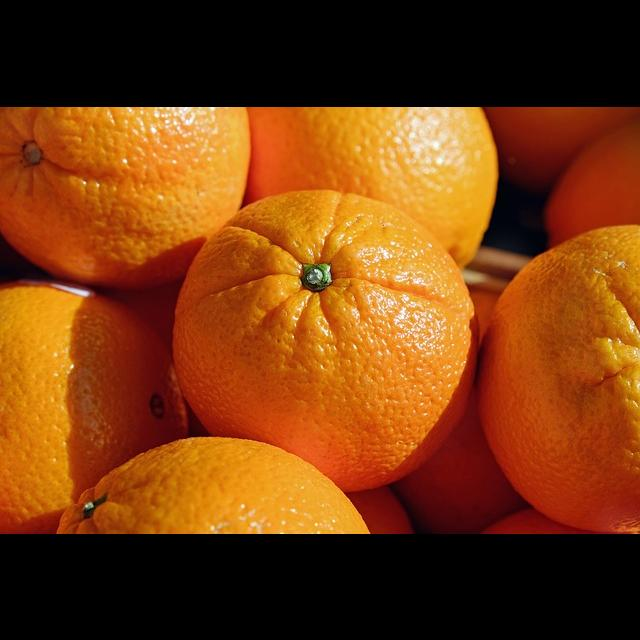orange: (158, 184, 504, 486), (40, 419, 403, 612), (204, 74, 510, 281), (0, 82, 259, 296), (364, 285, 579, 534), (0, 273, 186, 550), (469, 229, 640, 528), (163, 411, 440, 587), (422, 44, 640, 206), (462, 487, 636, 617), (529, 100, 640, 255)
